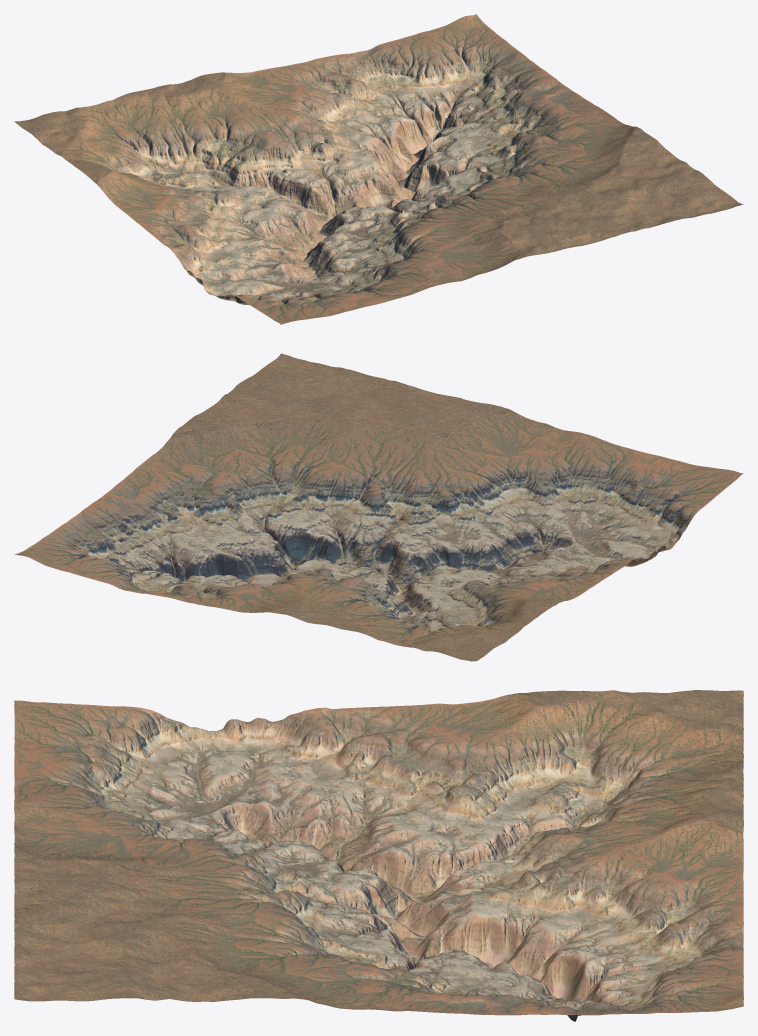
Rendered from canyon.glb.
3 renders of one model, top to bottom at view 1: azimuth 30°, elevation 25°; view 2: azimuth 150°, elevation 25°; view 3: azimuth 270°, elevation 25°, orthographic. The views are drawn at different scales.
Parts seen in each view (by area): view 1: Grand_Canyon_Mesh_Output; view 2: Grand_Canyon_Mesh_Output; view 3: Grand_Canyon_Mesh_Output.
Boxes of the visible parts, x1=… form: Grand_Canyon_Mesh_Output: x1=14, y1=14, x2=743, y2=324; Grand_Canyon_Mesh_Output: x1=14, y1=353, x2=743, y2=661; Grand_Canyon_Mesh_Output: x1=14, y1=690, x2=743, y2=1021.
Bounding box in the file's own units: 0.9975 × 0.1392 × 0.9976.
Materials: 1 (1 with a texture image).
